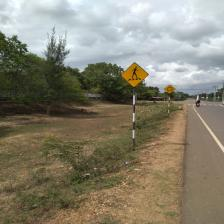yellowboard: (120, 62, 149, 88)
